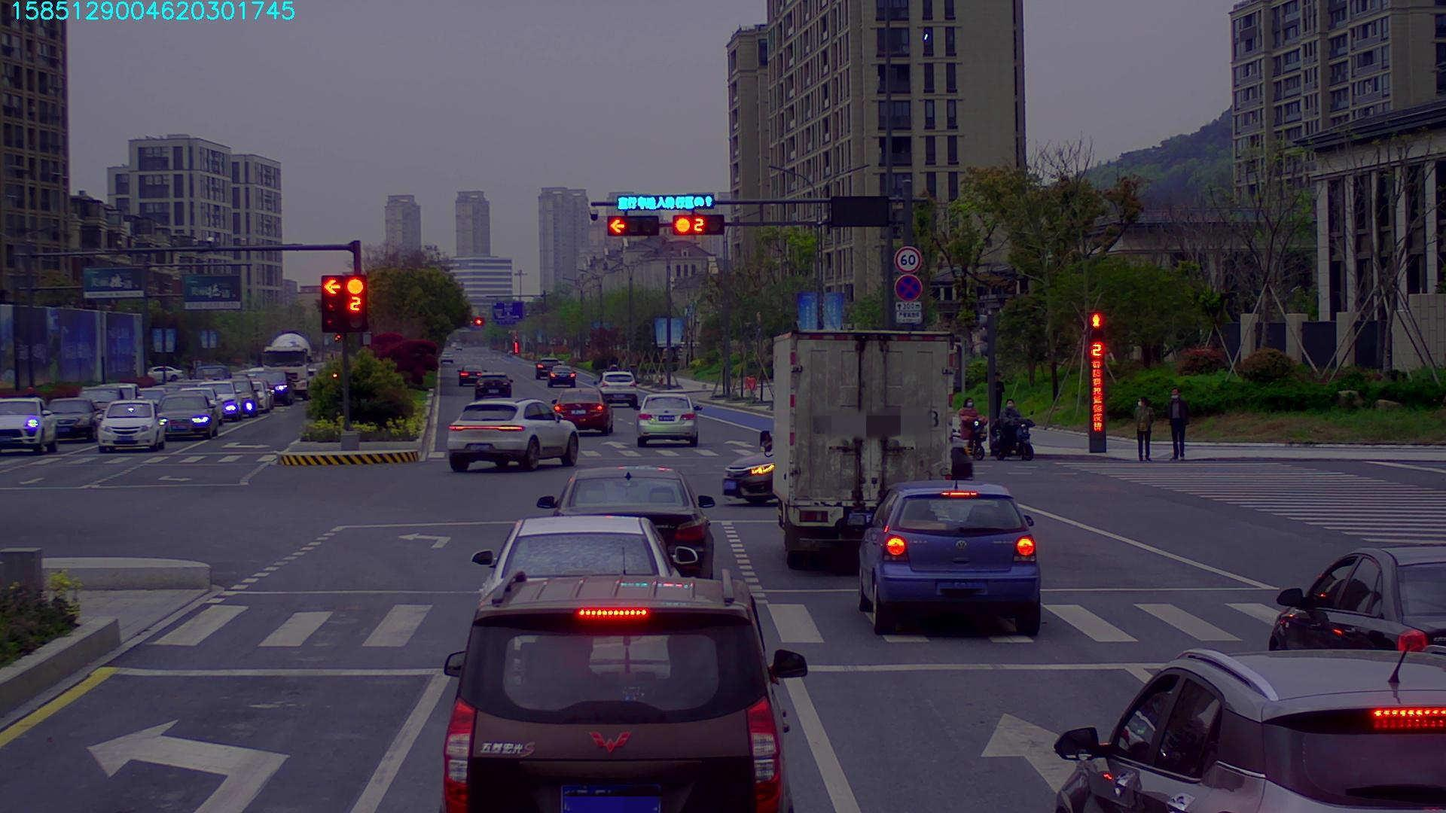red: (667, 215, 719, 235), (606, 215, 656, 235)
wait_on: (618, 193, 717, 211)
